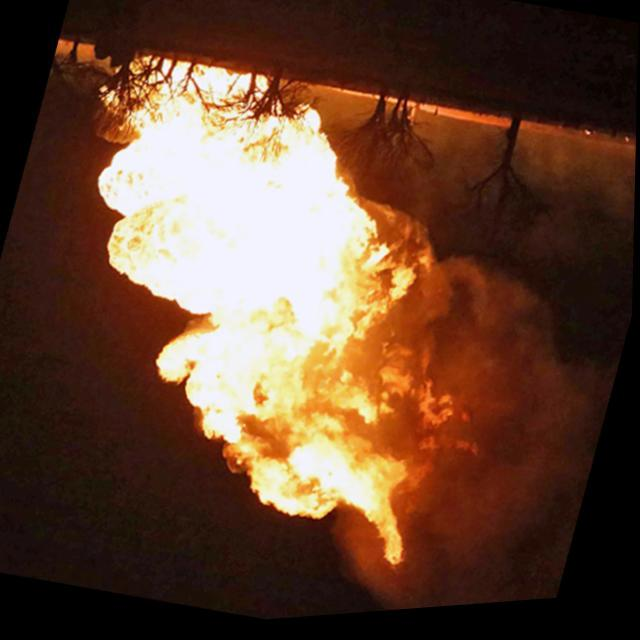fire: (26, 52, 554, 638)
